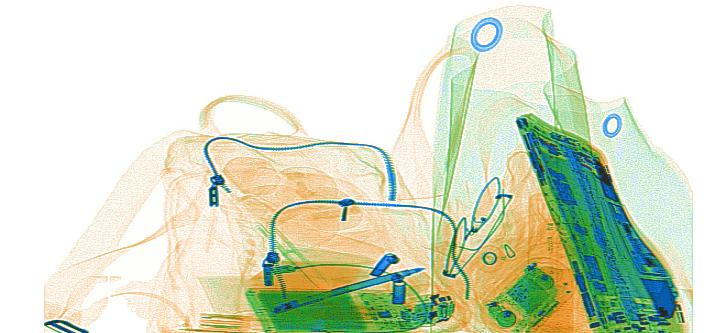plasticBottleWithaNozzle: (522, 192, 579, 329)
